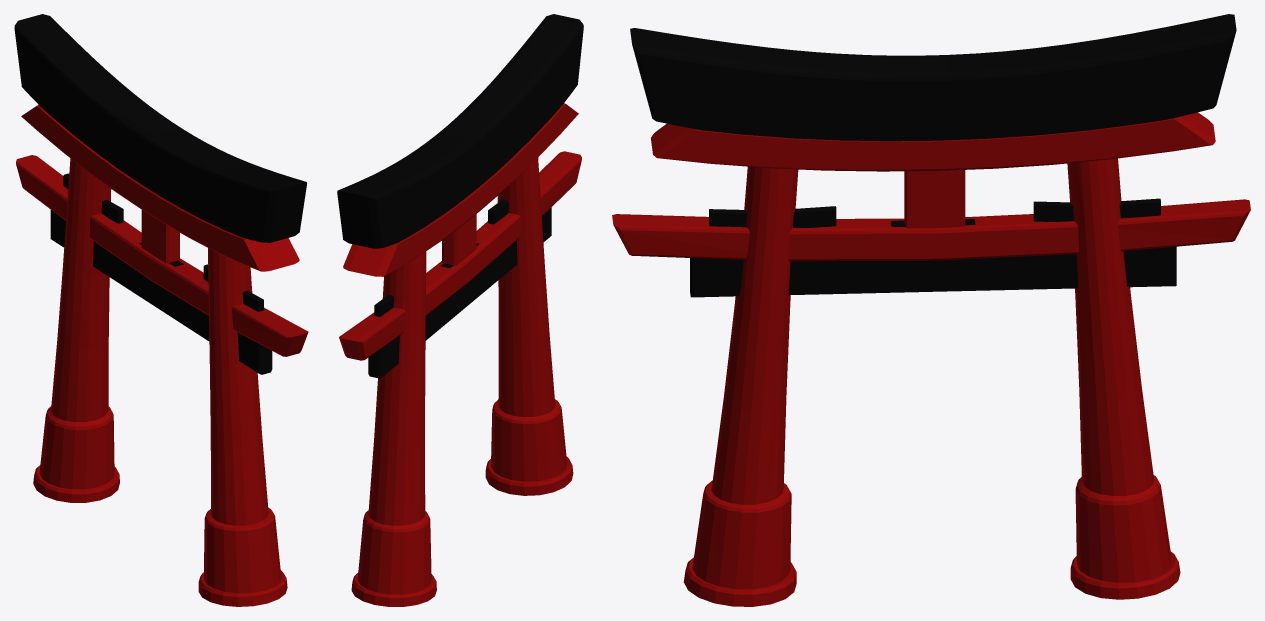
Rendered from arch.FBX.
The picture shows the model from 3 angles, left to right: view 1: azimuth 30°, elevation 25°; view 2: azimuth 150°, elevation 25°; view 3: azimuth 270°, elevation 25°; orthographic projection. The views are drawn at different scales.
Parts seen in each view (by area): view 1: Object182; view 2: Object182; view 3: Object182.
Part boxes in pixels (x1,y1,x2,y2): Object182: [14, 14, 308, 606]; Object182: [337, 14, 583, 606]; Object182: [612, 14, 1250, 606].
Bounding box in the file's own units: 66.23 × 306 × 320.
